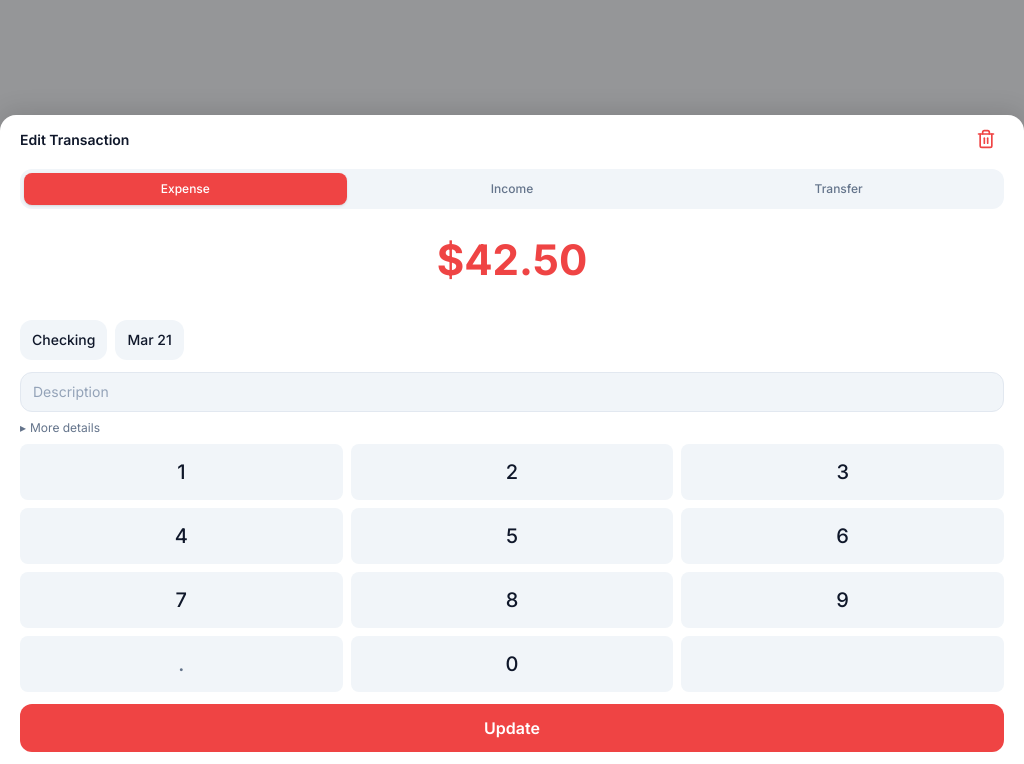
Test case: EditTransactionSheet › shows error message when updateTransaction throws
This screenshot has width=1024, height=764.
(page scrolled)
Click the button "Update". click: [512, 728]
box: [20,704,1004,752]
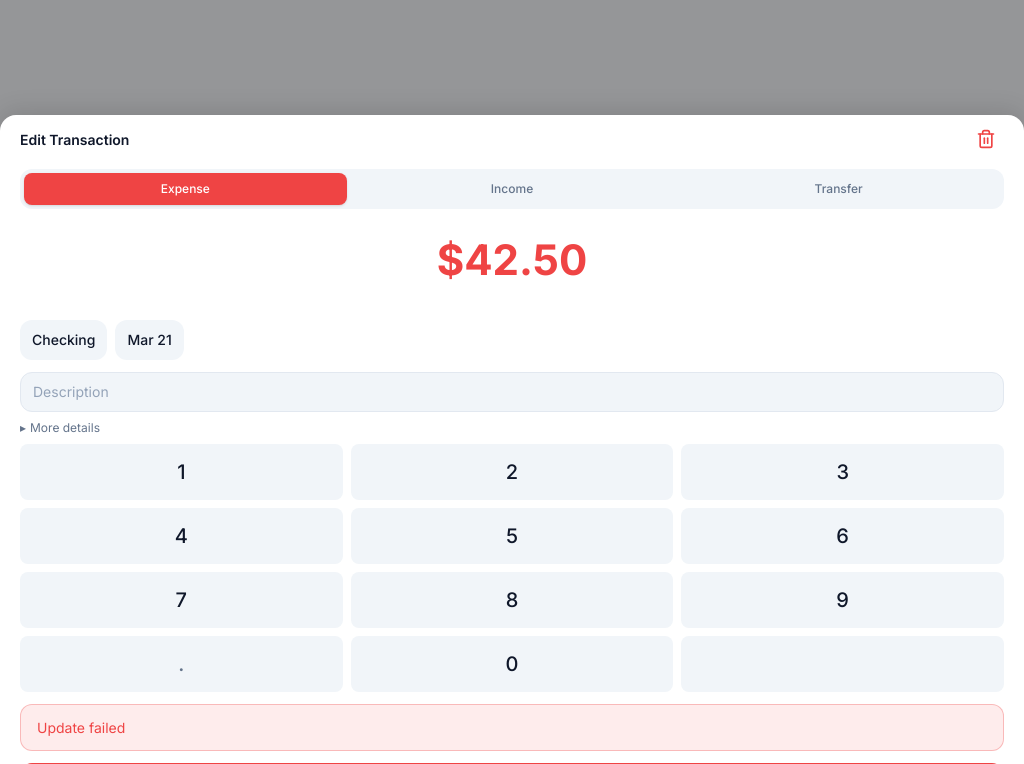
Now the text "Update failed" is shown, box [20,704,1004,751]
